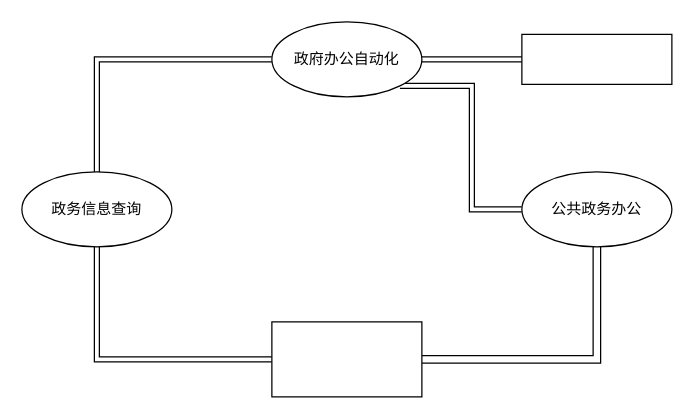
Some shapes in this 694 by 419 pixel diagram are drawn without their labels. Each missing label, with the centre of its shape:
政府工作人员: (x=596, y=58)
社会公众企业: (x=346, y=359)
